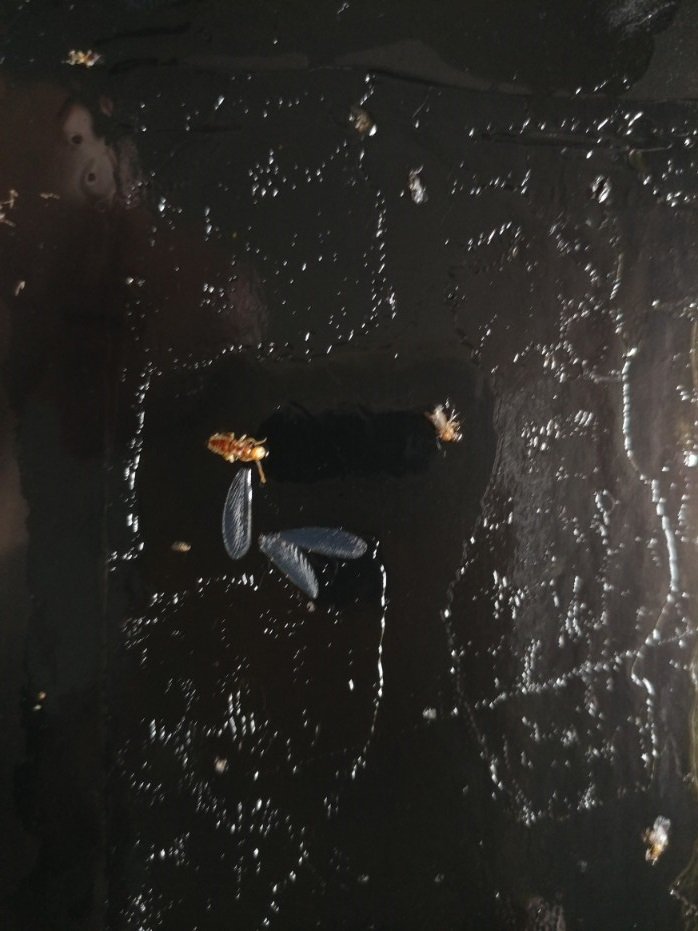flying termite: (199, 429, 272, 474)
